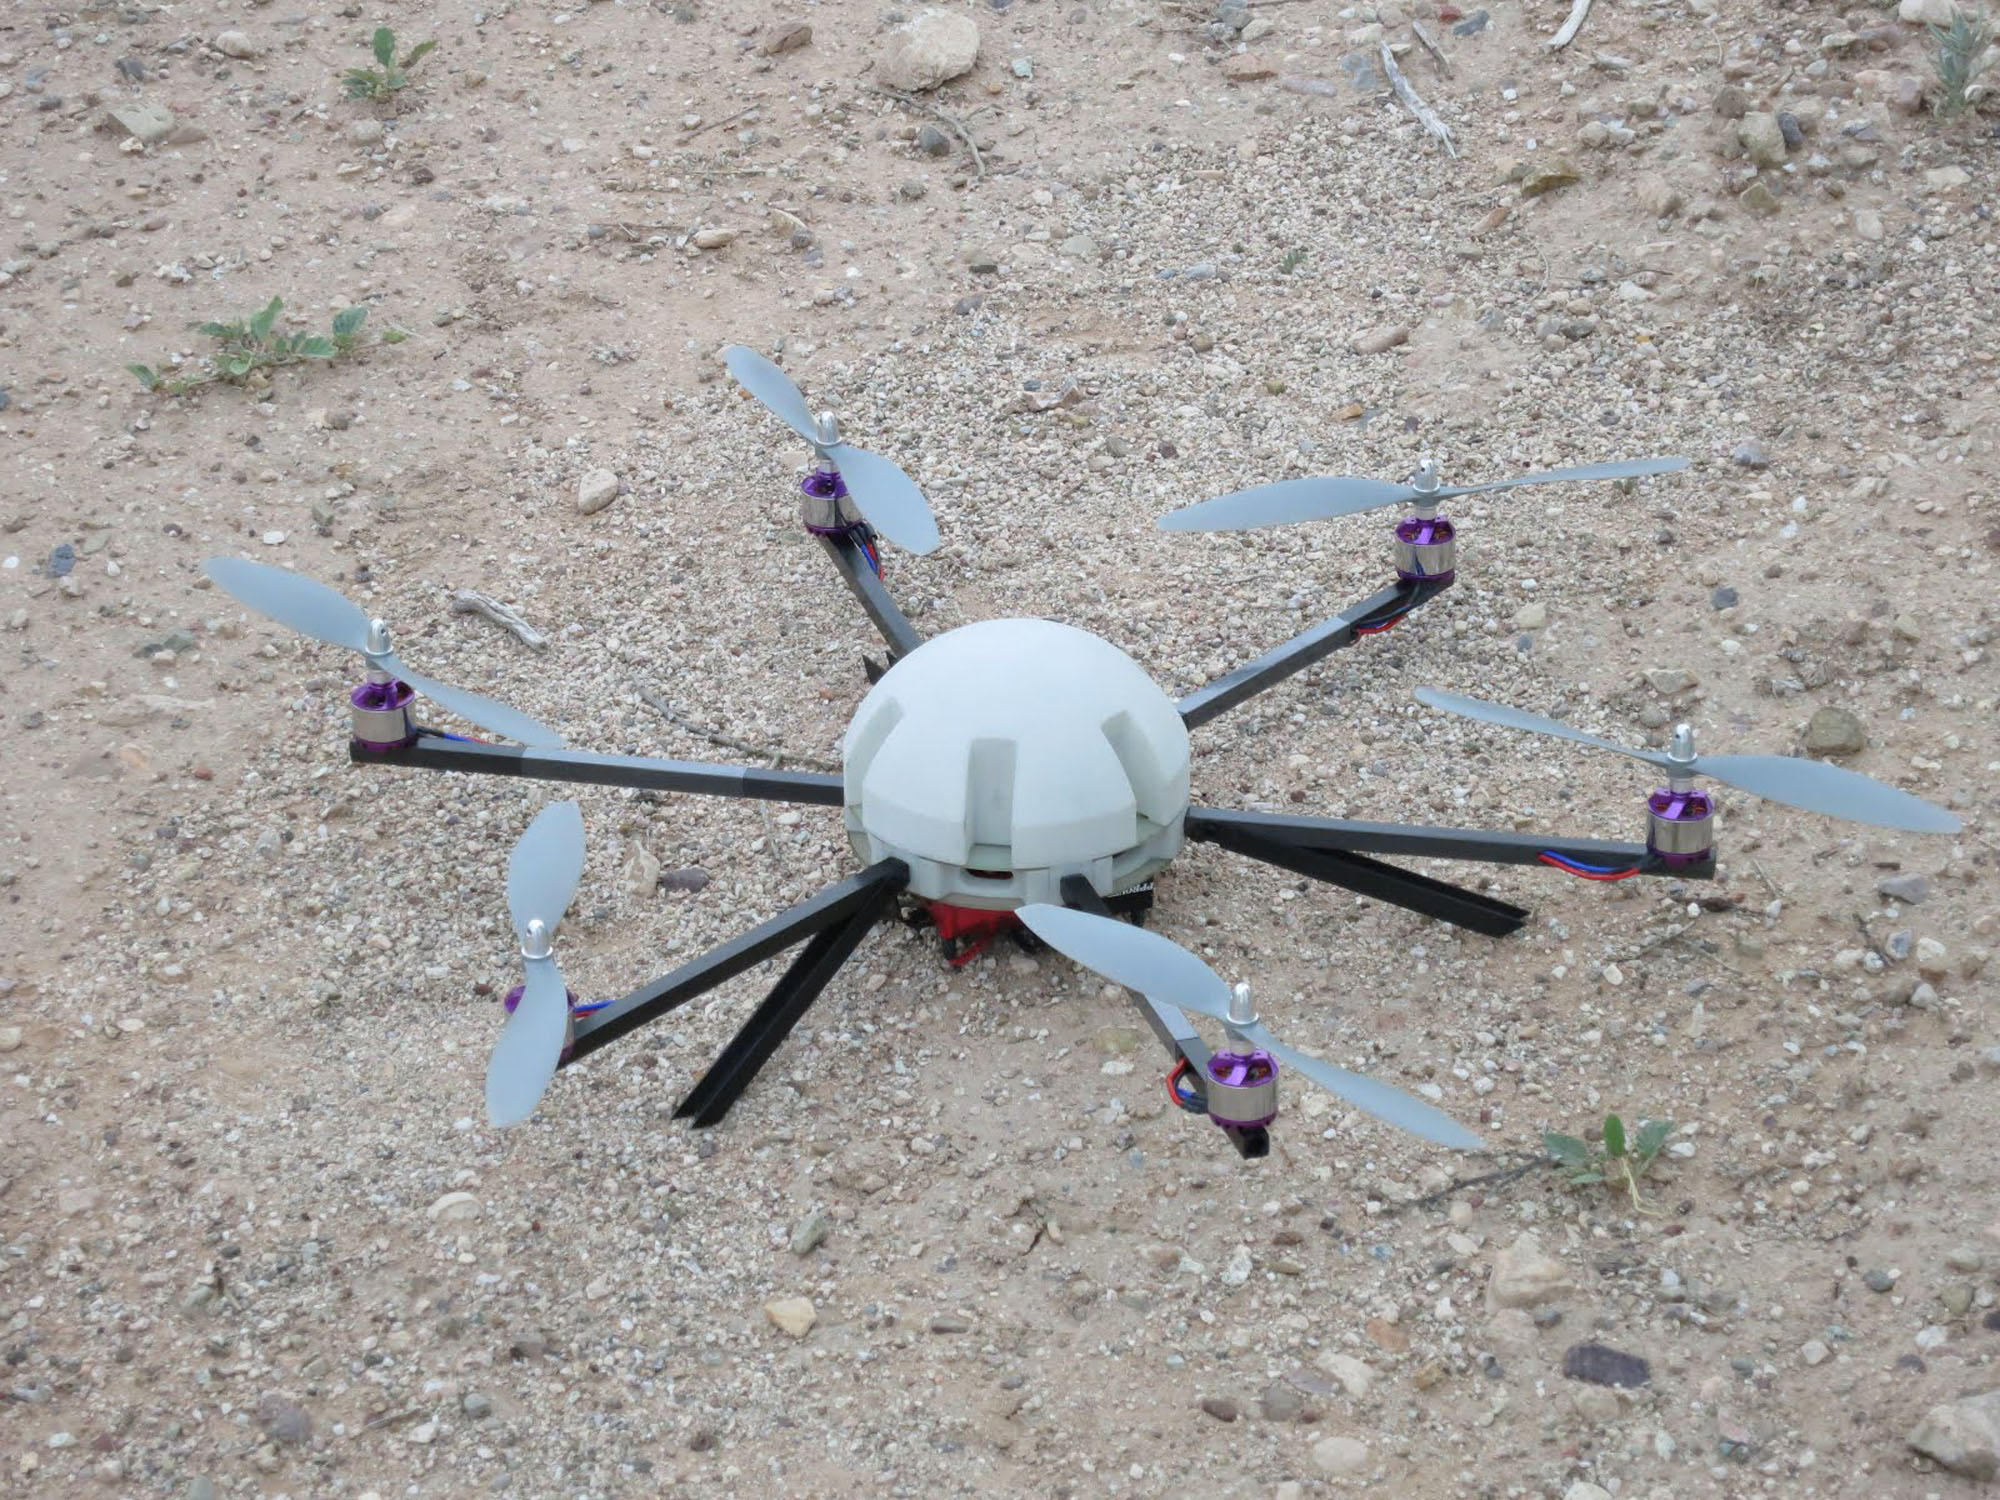drone: (194, 336, 1967, 1171)
